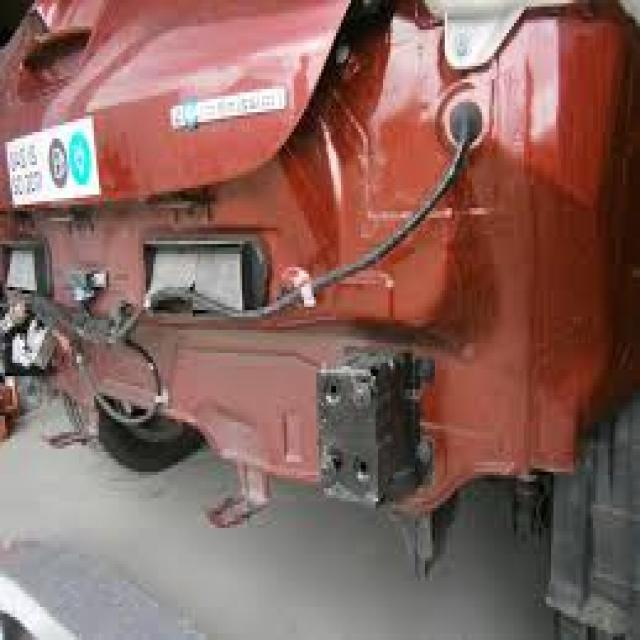damaged-rear-bumper: (24, 266, 640, 496)
